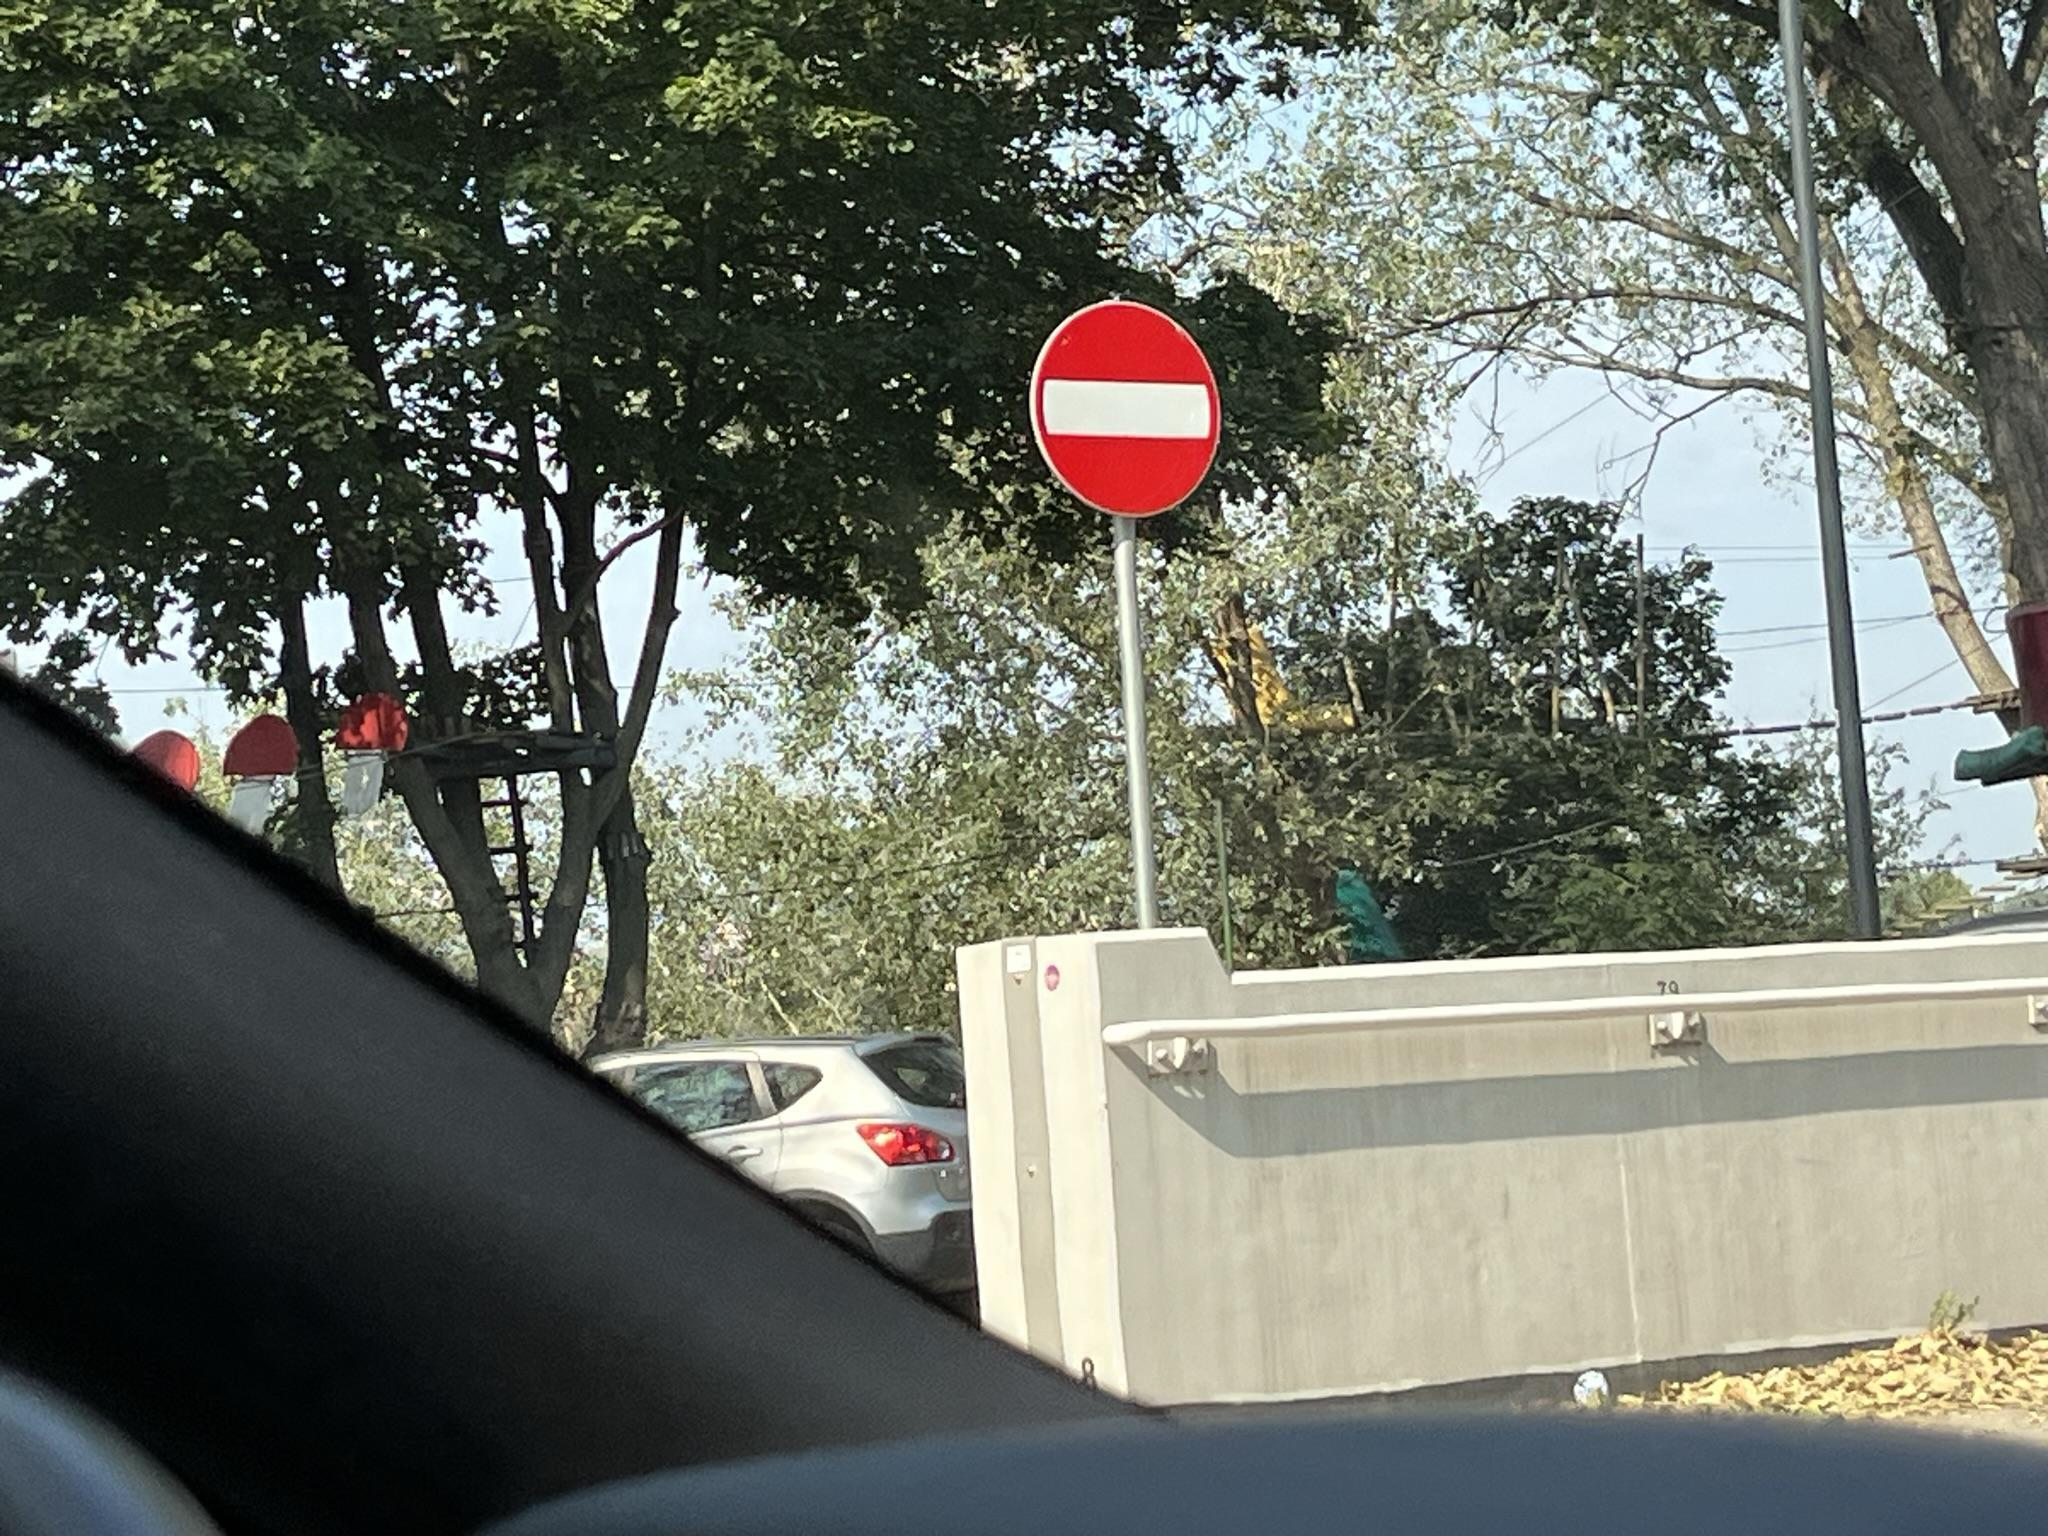warning: (1030, 298, 1224, 515)
